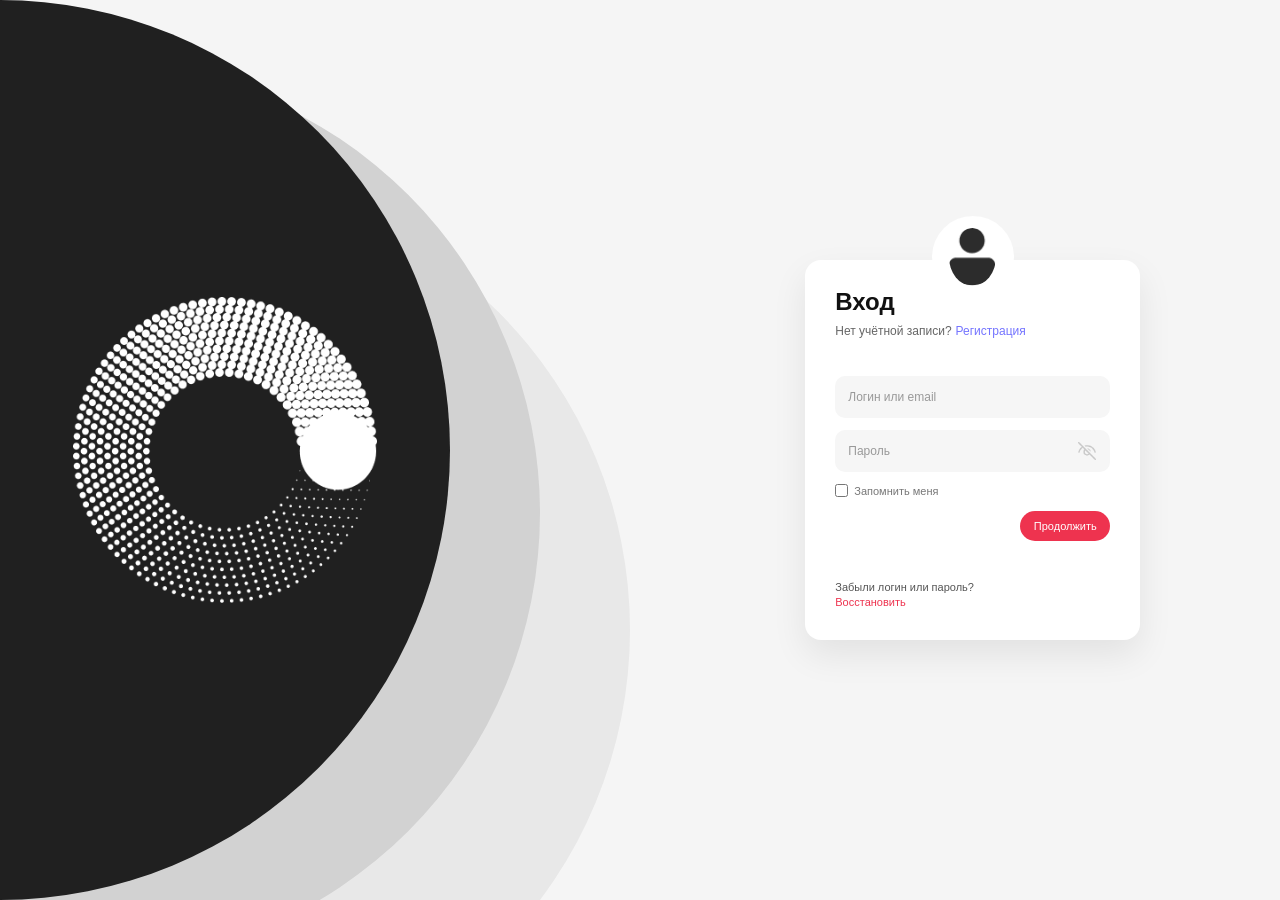
connected app › registers through the backend and shows honest empty states
Click the button "Регистрация" at (991, 331), box [956,324,1026,338]
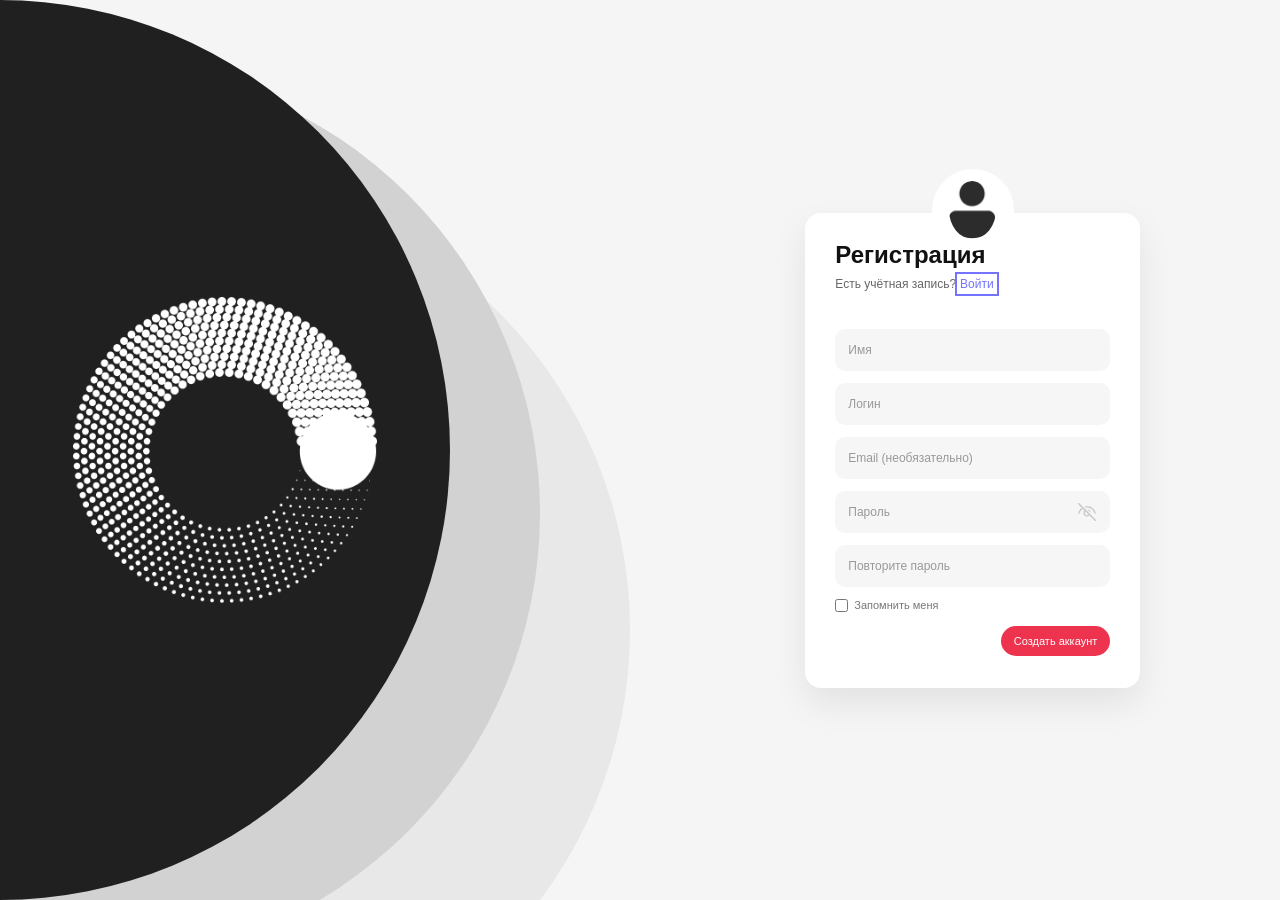
Type "Иван" into the field labelled "Имя" at (973, 350), box [835,328,1110,370]
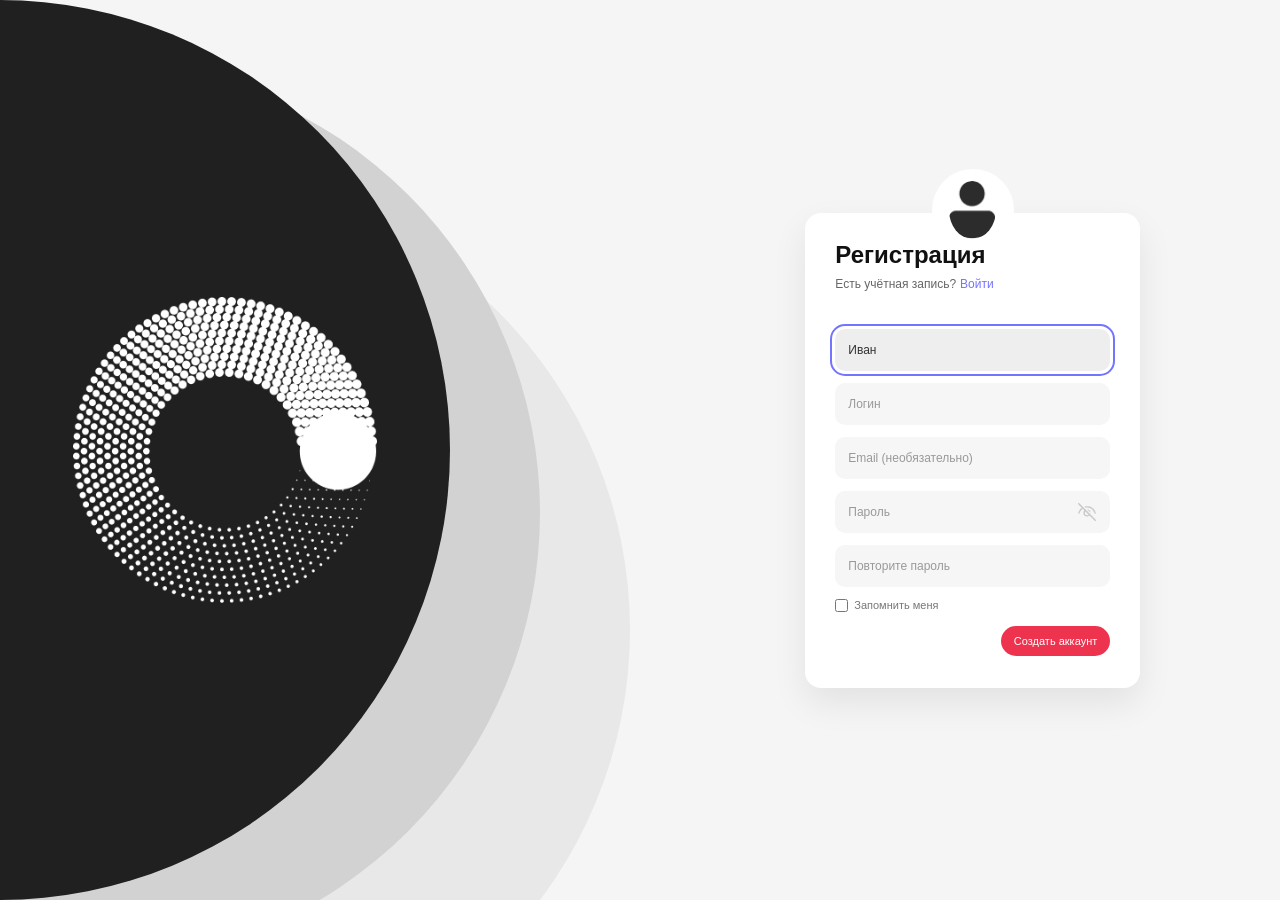
Type "newstudent" into the field labelled "Логин" at (973, 404), box [835,382,1110,424]
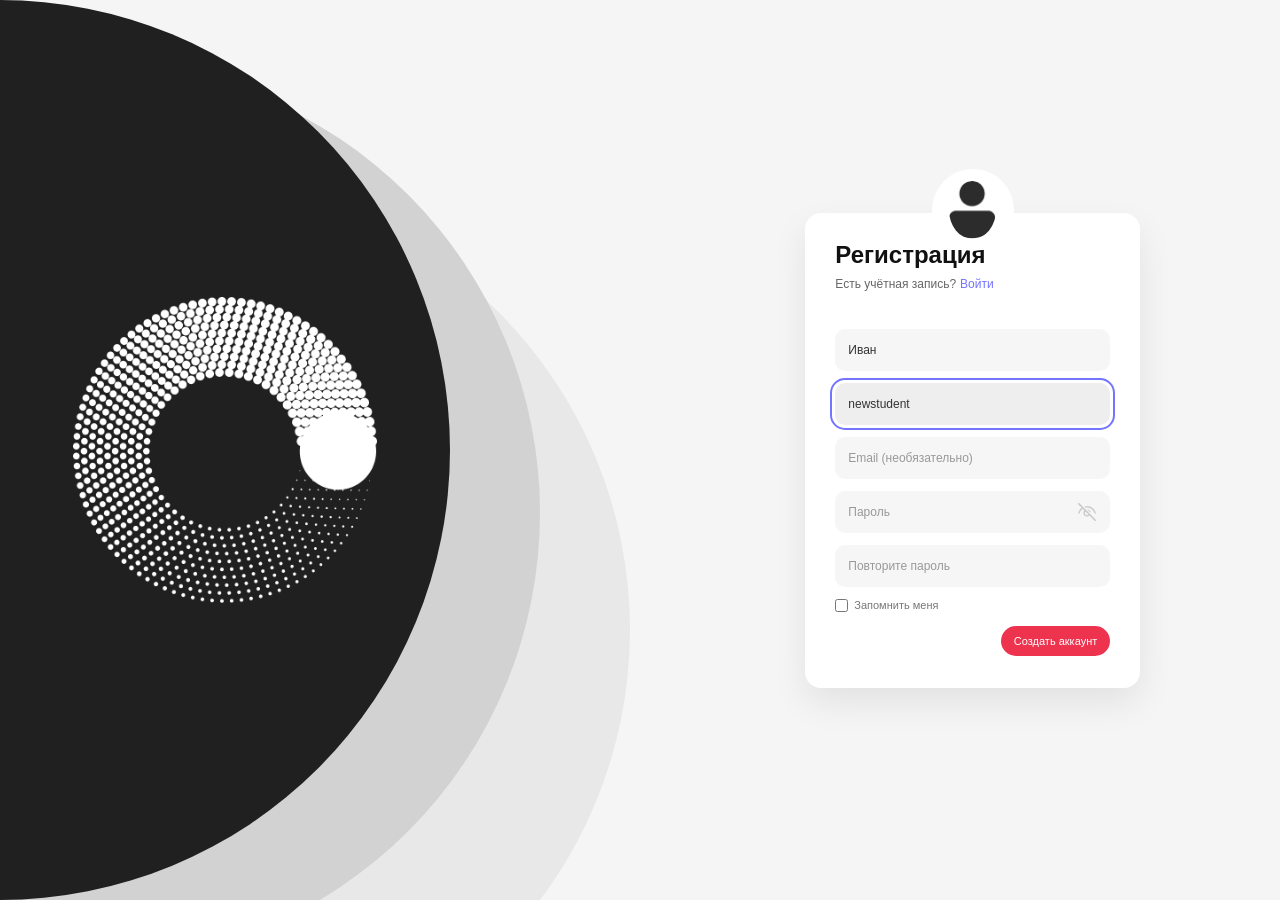
Type "secret" into the password field labelled "Пароль" at (973, 512), box [835,490,1110,532]
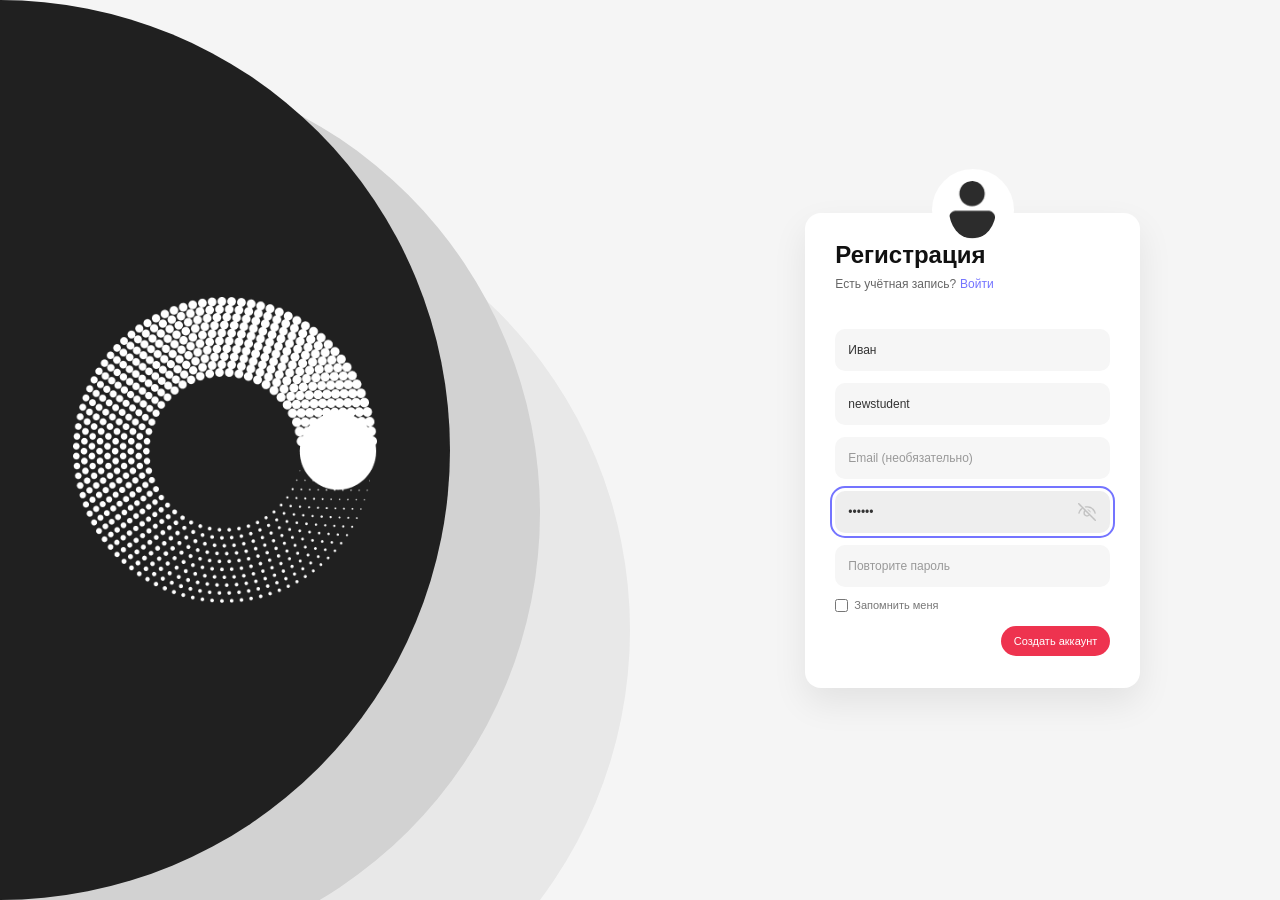
Type "secret" into the password field labelled "Повторите пароль" at (973, 566), box [835,544,1110,586]
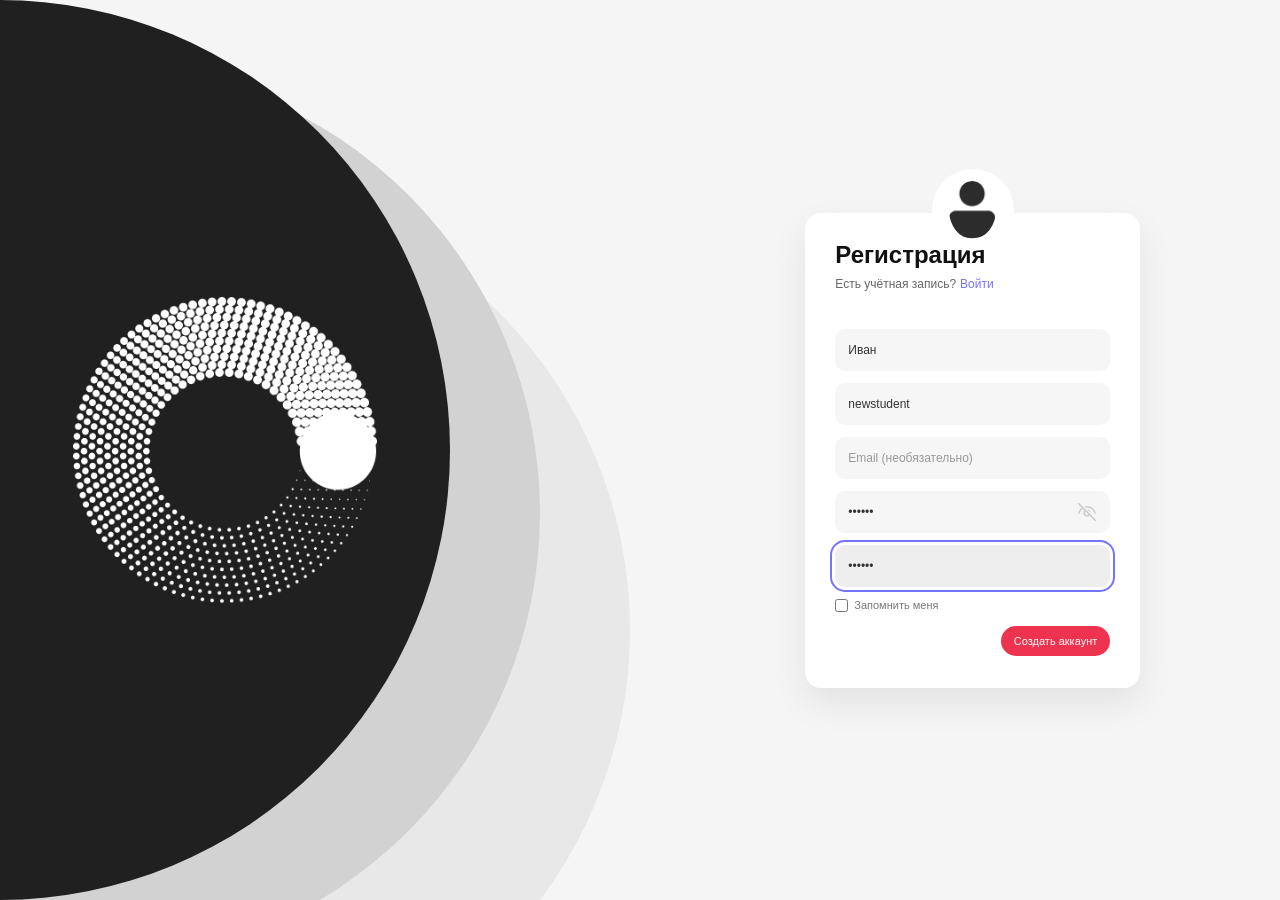
Click the button "Создать аккаунт" at (1056, 640), box [1001,626,1110,656]
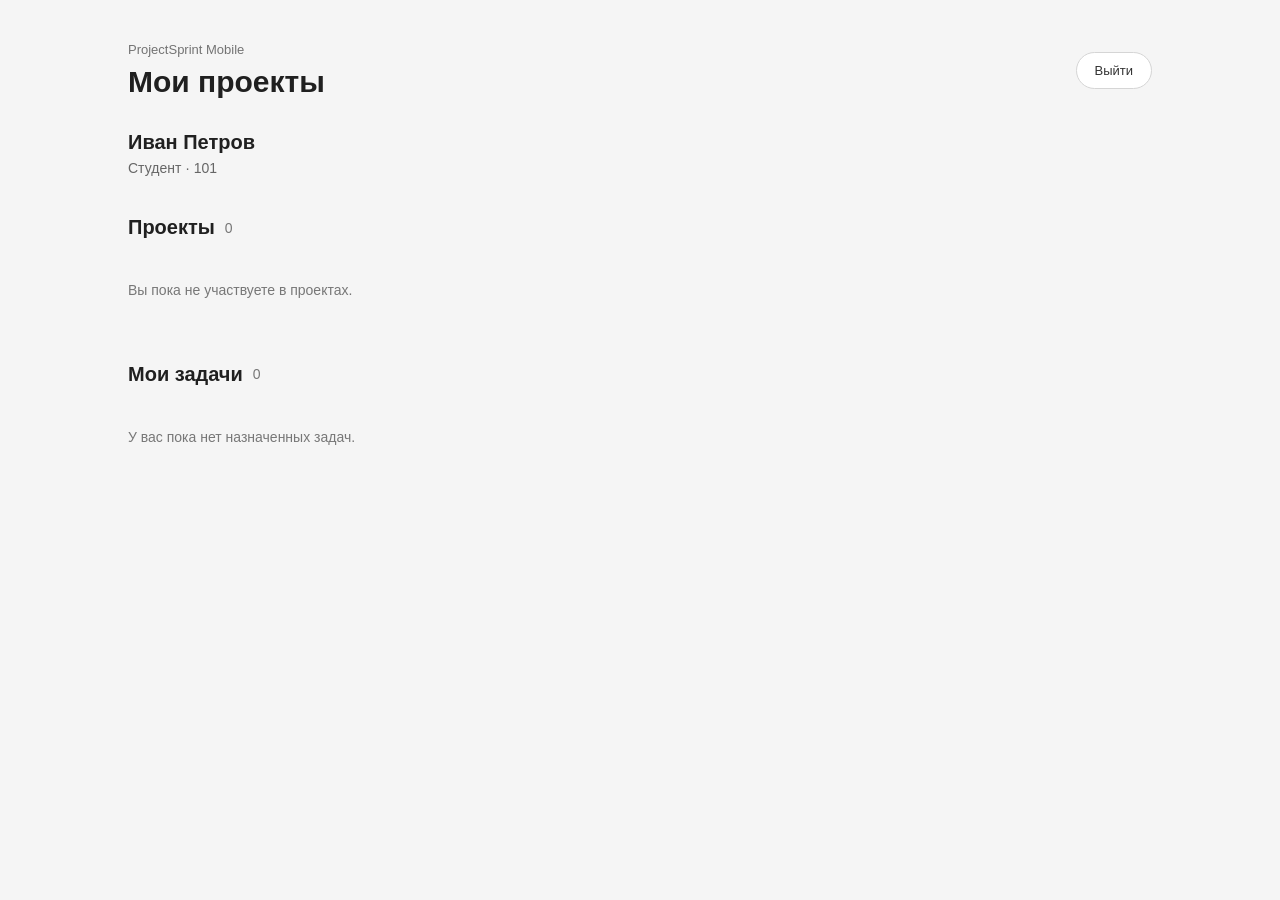
Check: the text "Вы пока не участвуете в проектах." is shown, box [128,282,352,298]
Check: the text "У вас пока нет назначенных задач." is shown, box [128,429,355,445]
